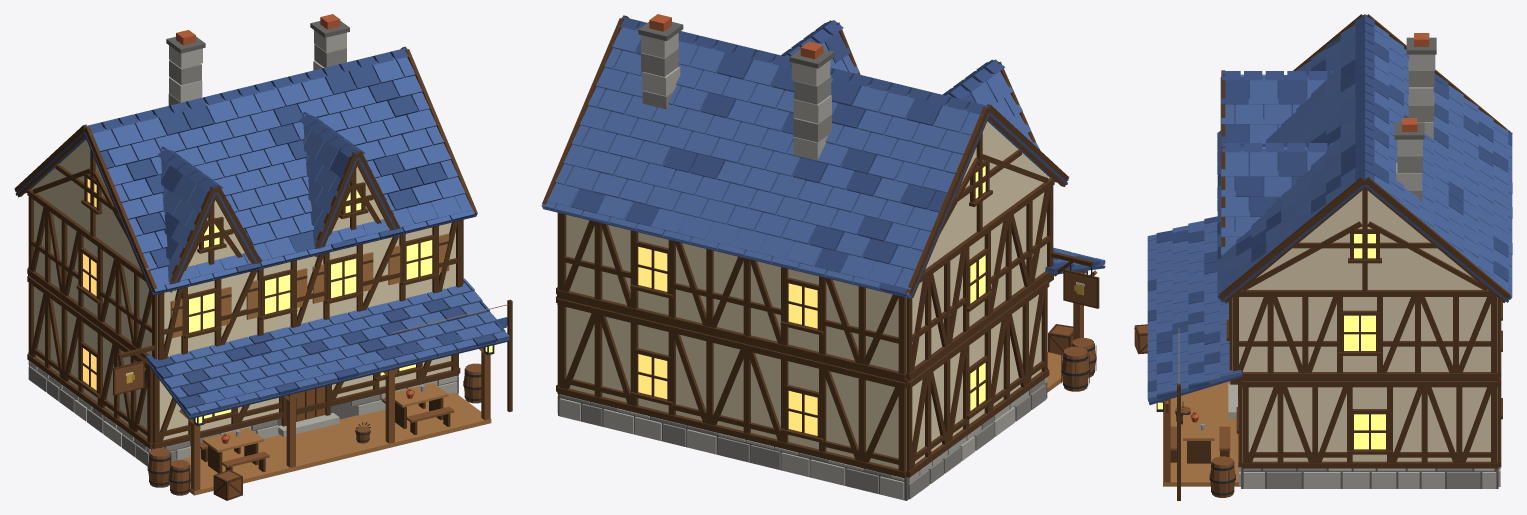
Rendered from Pack_Tavern.fbx.
The picture shows the model from 3 angles, left to right: view 1: azimuth 30°, elevation 25°; view 2: azimuth 150°, elevation 25°; view 3: azimuth 270°, elevation 25°; orthographic projection. The views are drawn at different scales.
Visible parts, largest first — view 1: Pack_Tavern_LOD0; view 2: Pack_Tavern_LOD0; view 3: Pack_Tavern_LOD0.
Part boxes in pixels (x1,y1,x2,y2): Pack_Tavern_LOD0: (14,14,512,500); Pack_Tavern_LOD0: (541,14,1105,500); Pack_Tavern_LOD0: (1134,14,1512,500).
Size of what is drawn, in the model's own units: 11.27 by 9.93 by 9.51.
